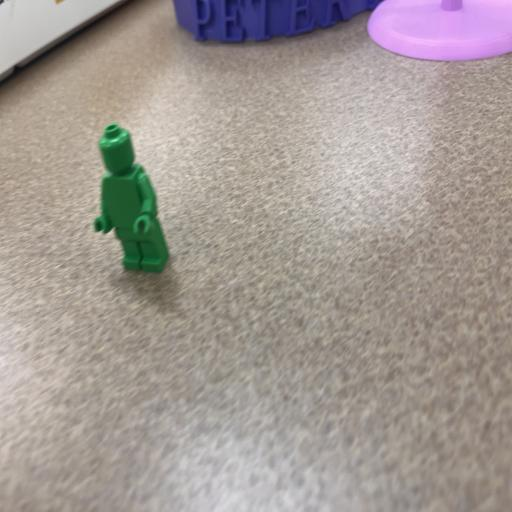Lego-Minifig: (94, 123, 169, 272), (156, 242, 172, 259)
